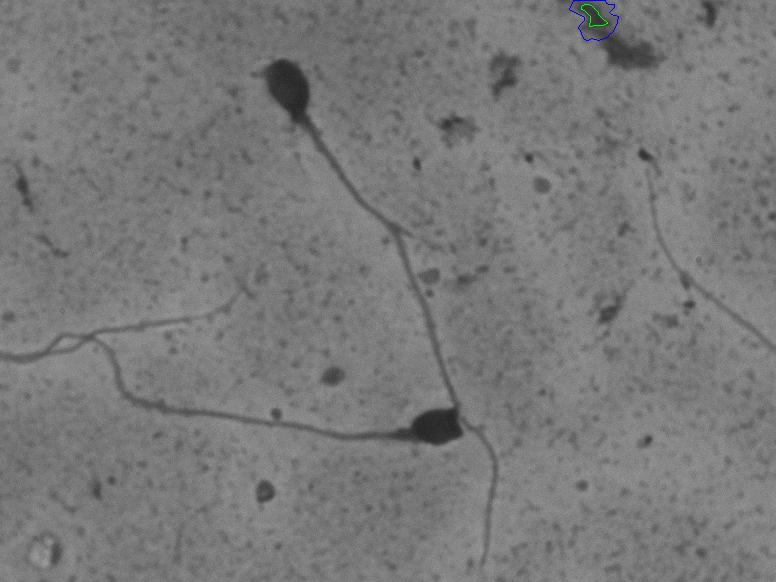Abnormal: (18, 350, 465, 487)
Normal: (259, 48, 527, 567)
